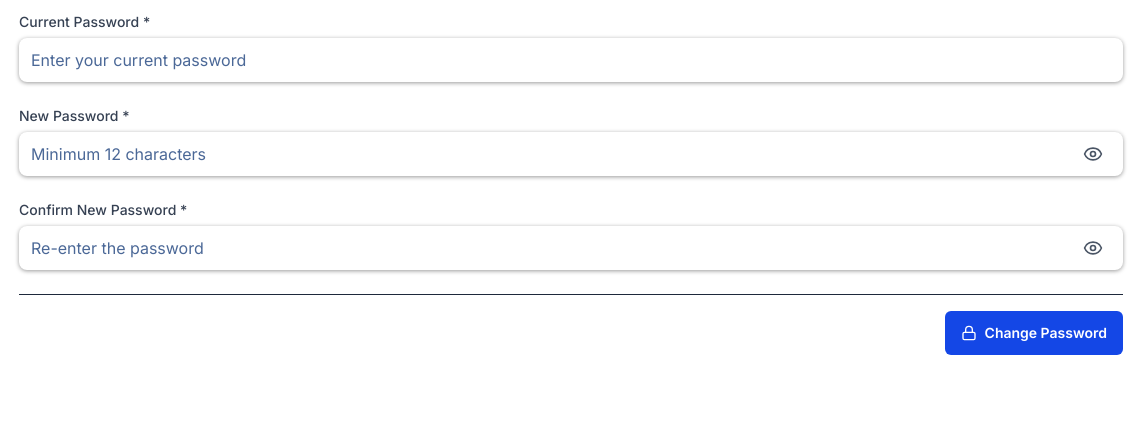
Scenario: PasswordSettings › validates password confirmation match
In the password field with placeholder "Enter your current password": (571, 60) [19,38,1123,82], type "CurrentPassword123!"
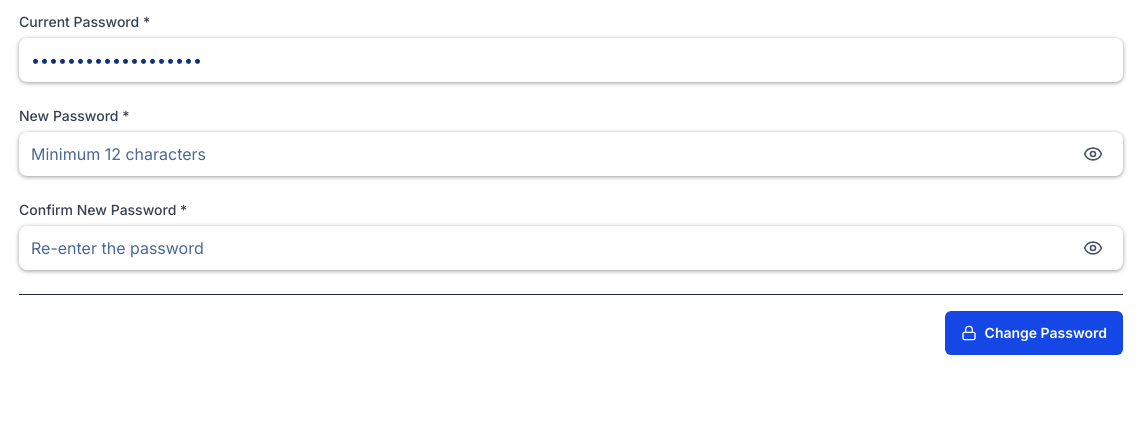
In the password field with placeholder "Minimum 12 characters": (571, 154) [19,132,1123,176], type "NewPassword123!"
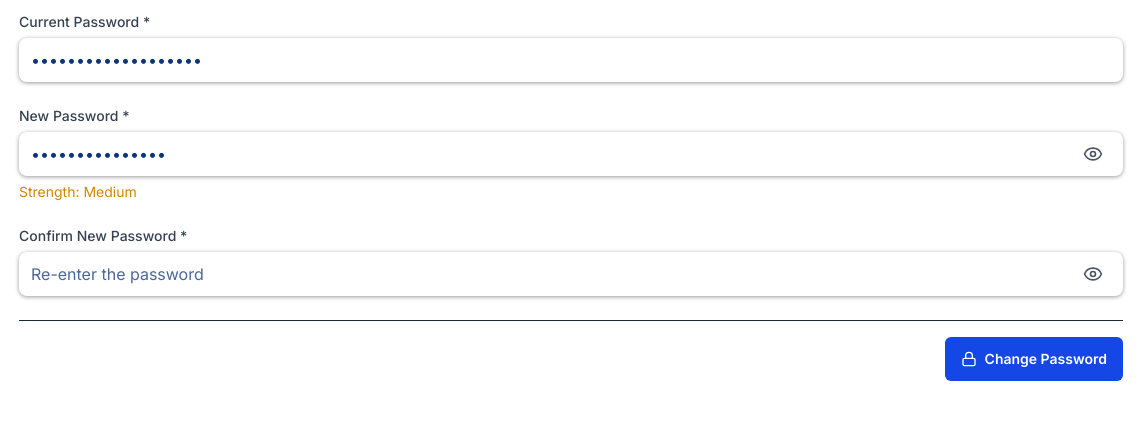
In the password field with placeholder "Re-enter the password": (571, 274) [19,252,1123,296], type "DifferentPassword123!"
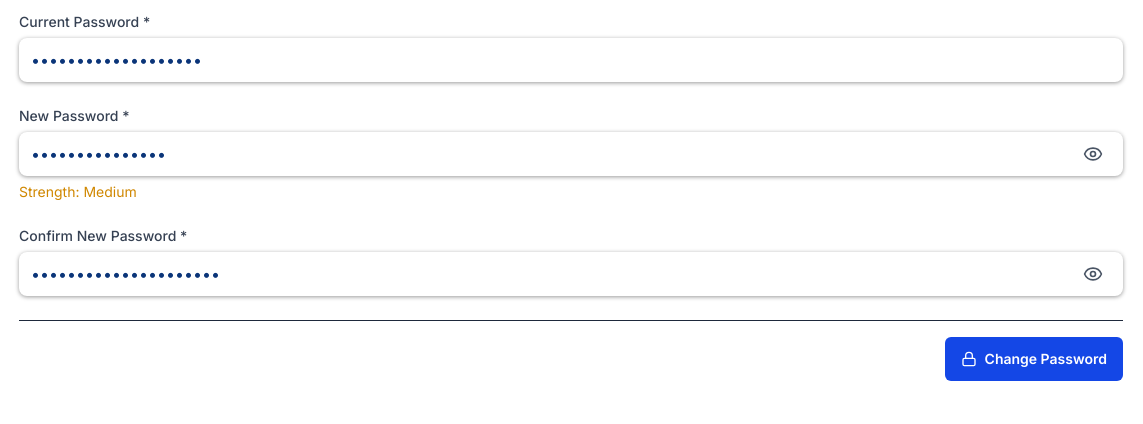
Click the button "Change Password": (1034, 359) [945,337,1123,381]
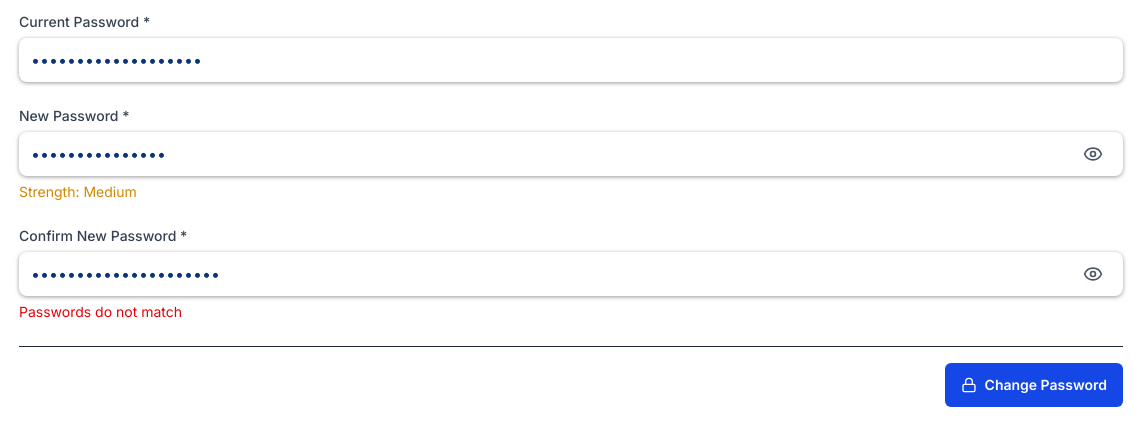
Result: the text "Passwords do not match" is shown at [19,303,182,320]
